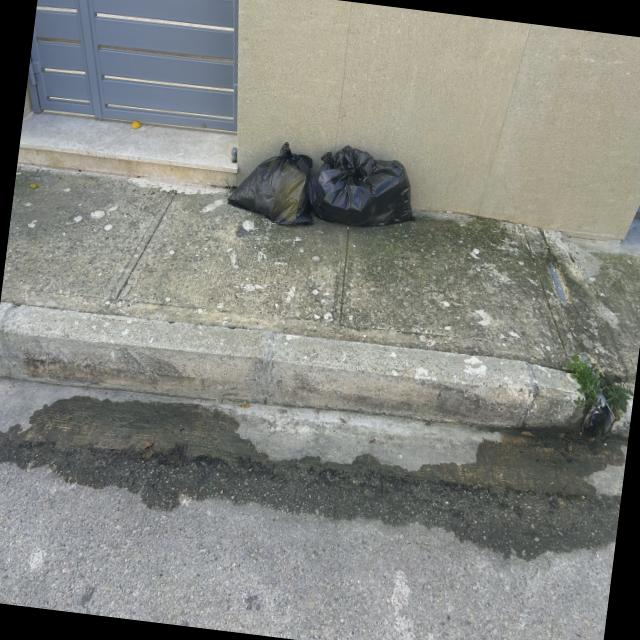black_bag: (305, 138, 425, 239), (223, 133, 324, 230)
